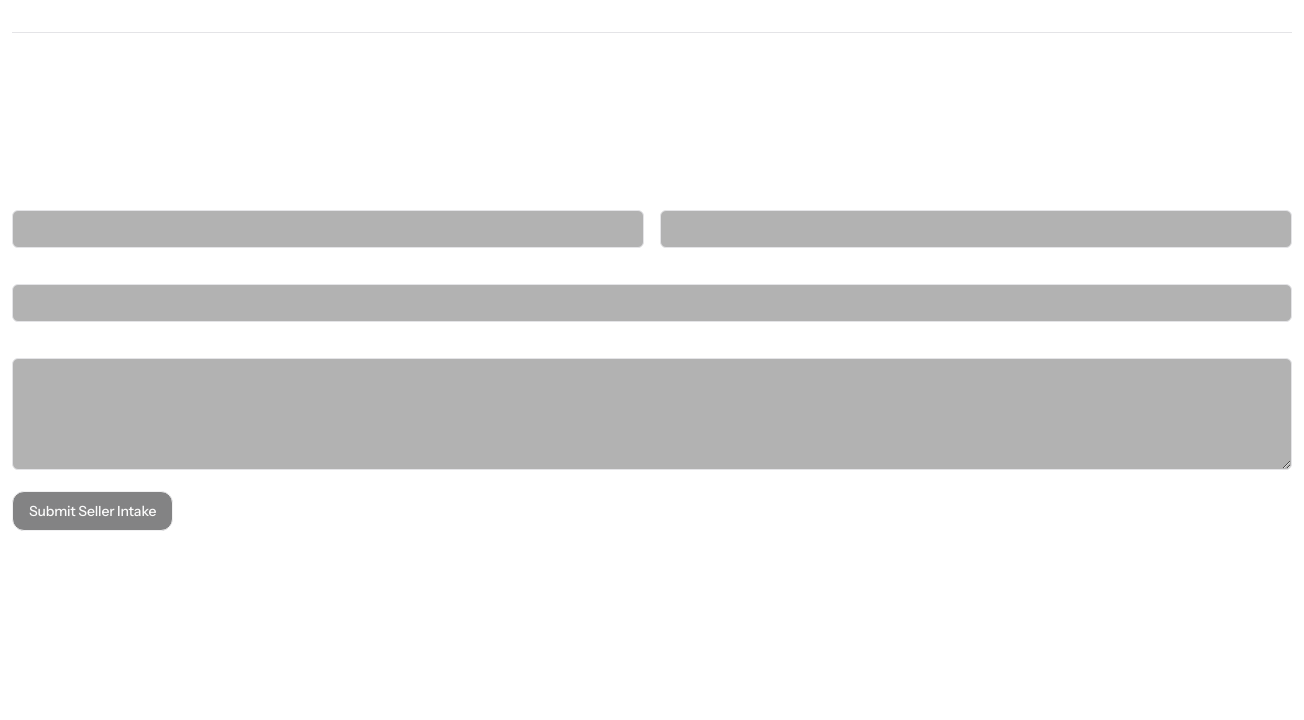
Test: SellerSubmissionSection › shows submitting then success state when submission succeeds
Type "Jane" into the field labelled "Name" at point(328, 229), box x1=12 y1=210 x2=644 y2=248
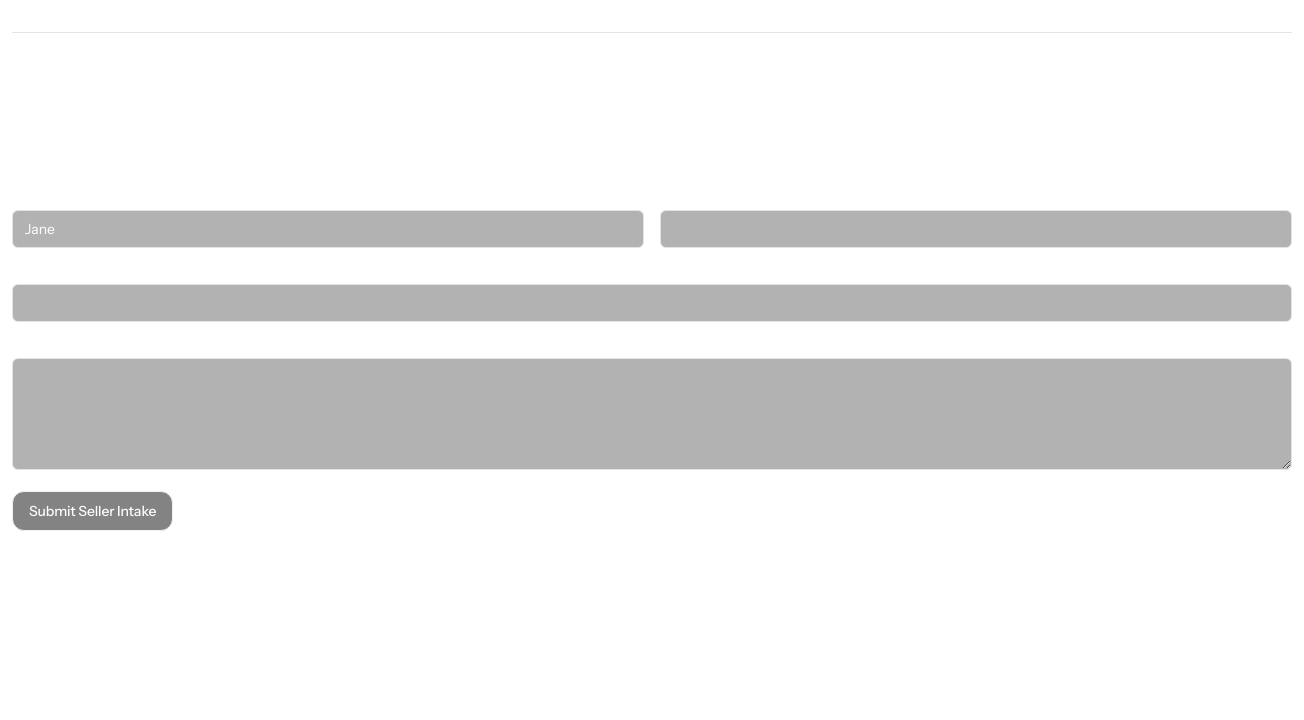
Type "jane@example.com" into the field labelled "Email" at point(976, 229), box x1=660 y1=210 x2=1292 y2=248
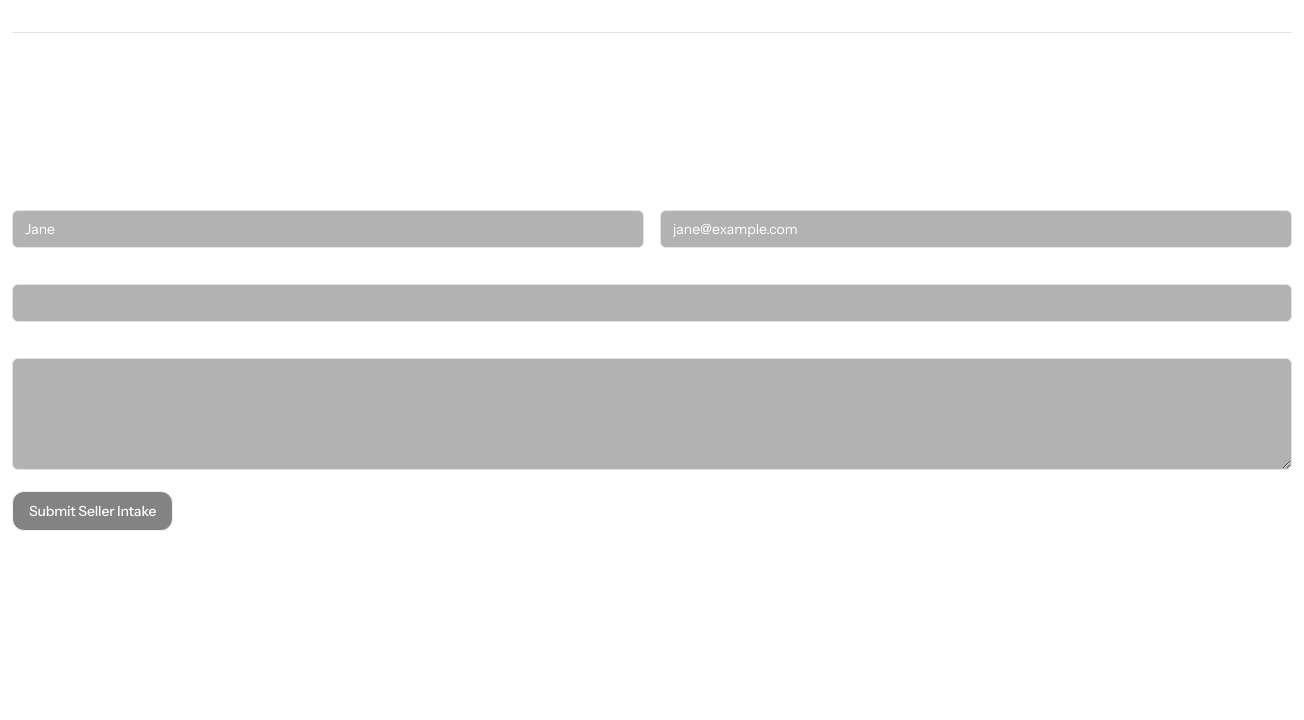
Type "123 Main St" into the field labelled "Property address" at point(652, 303), box x1=12 y1=284 x2=1292 y2=322
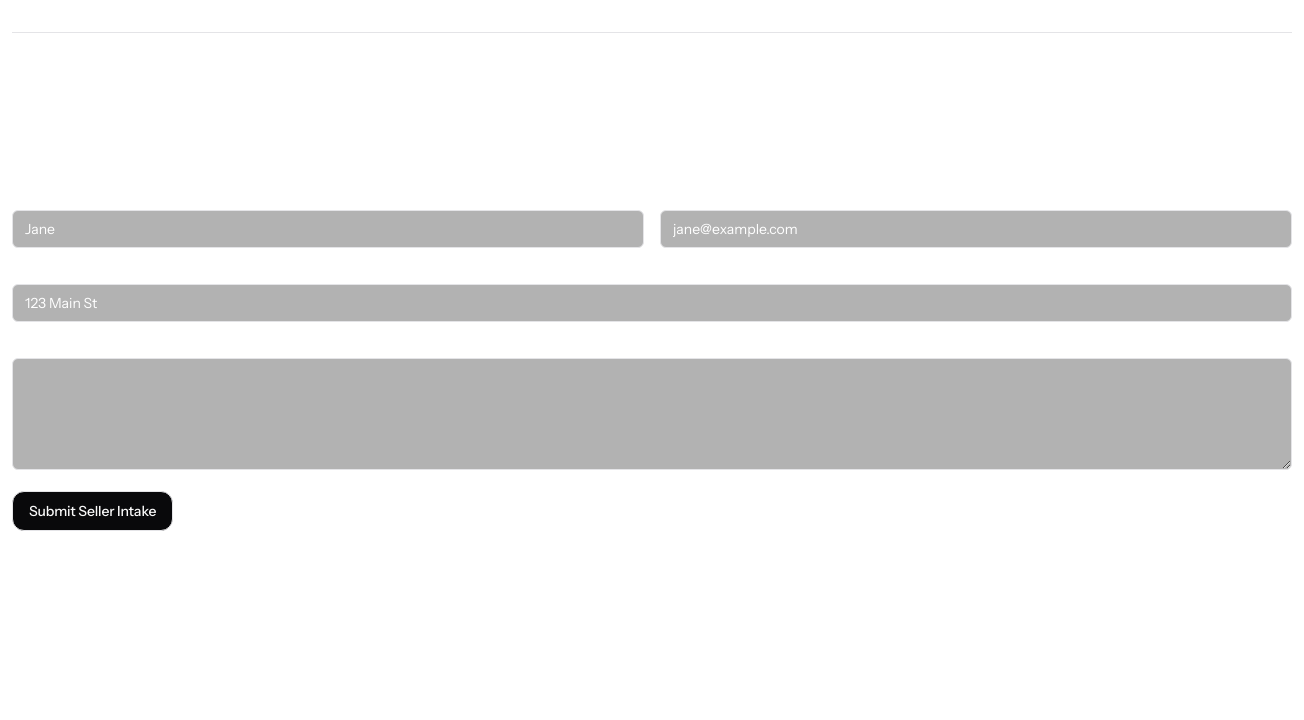
Click the button "Submit Seller Intake" at point(93, 511), box x1=12 y1=491 x2=173 y2=531
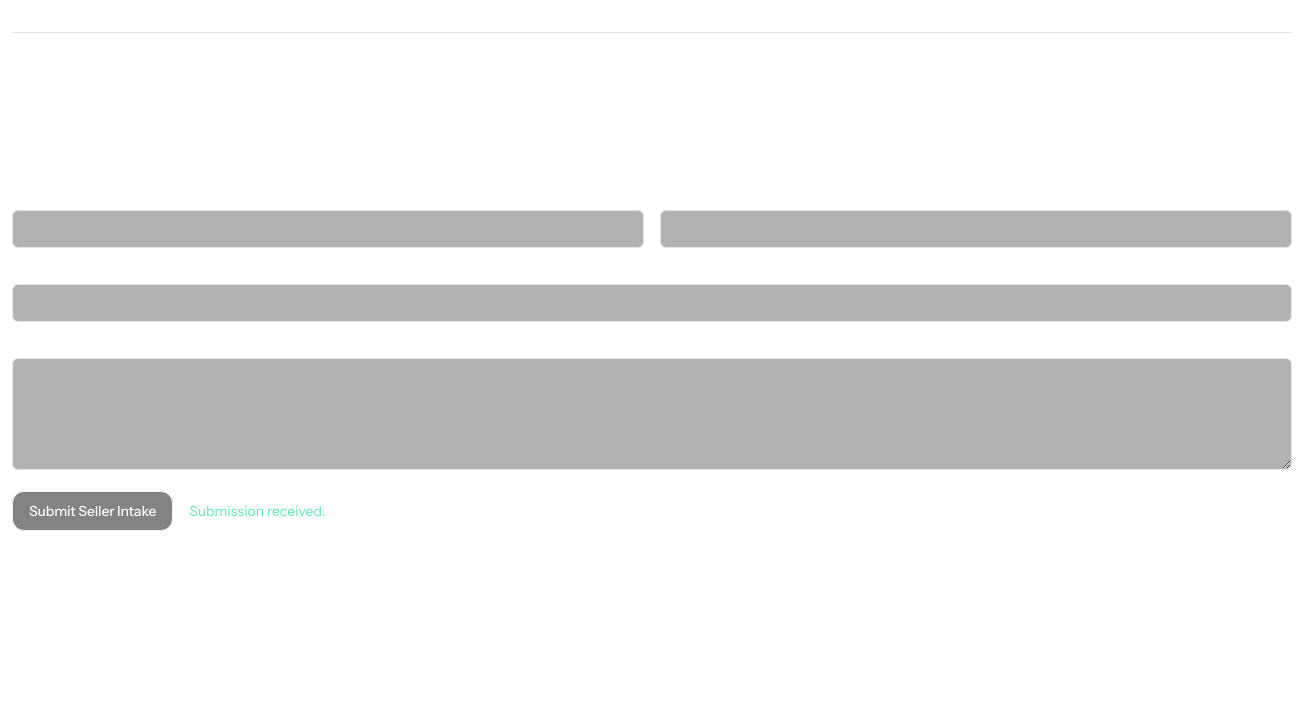
expect the button named "Submitting..." is disabled: met, box x1=12 y1=491 x2=173 y2=531
expect the text "Submission received." is shown: met, box x1=189 y1=501 x2=326 y2=521
